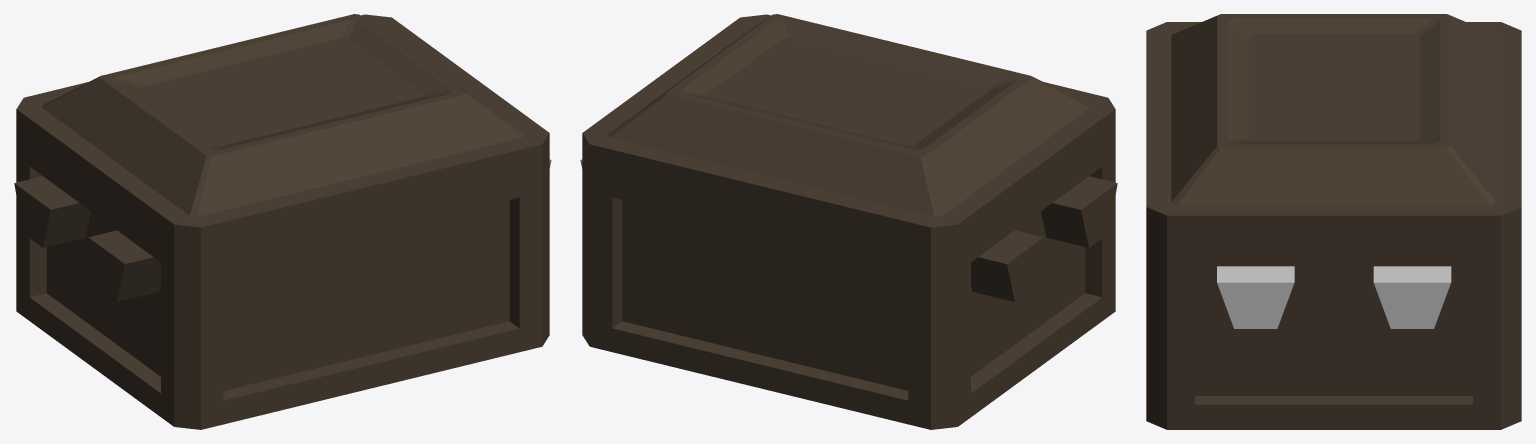
File: CHESTBIG_ADD_STONE_OPEN.OBJ
3 views of the same model, side by side, from view 1: azimuth 30°, elevation 25°; view 2: azimuth 150°, elevation 25°; view 3: azimuth 270°, elevation 25° (orthographic). The views are drawn at different scales.
Parts seen in each view (by area): view 1: CHESTBIG_ADD_STONE_OPEN; view 2: CHESTBIG_ADD_STONE_OPEN; view 3: CHESTBIG_ADD_STONE_OPEN.
Boxes of the visible parts, <box> form: CHESTBIG_ADD_STONE_OPEN: <box>14,14,551,429</box>; CHESTBIG_ADD_STONE_OPEN: <box>580,14,1117,429</box>; CHESTBIG_ADD_STONE_OPEN: <box>1146,14,1521,429</box>.
Bounding box in the file's own units: 1.25 × 0.6667 × 0.9.
